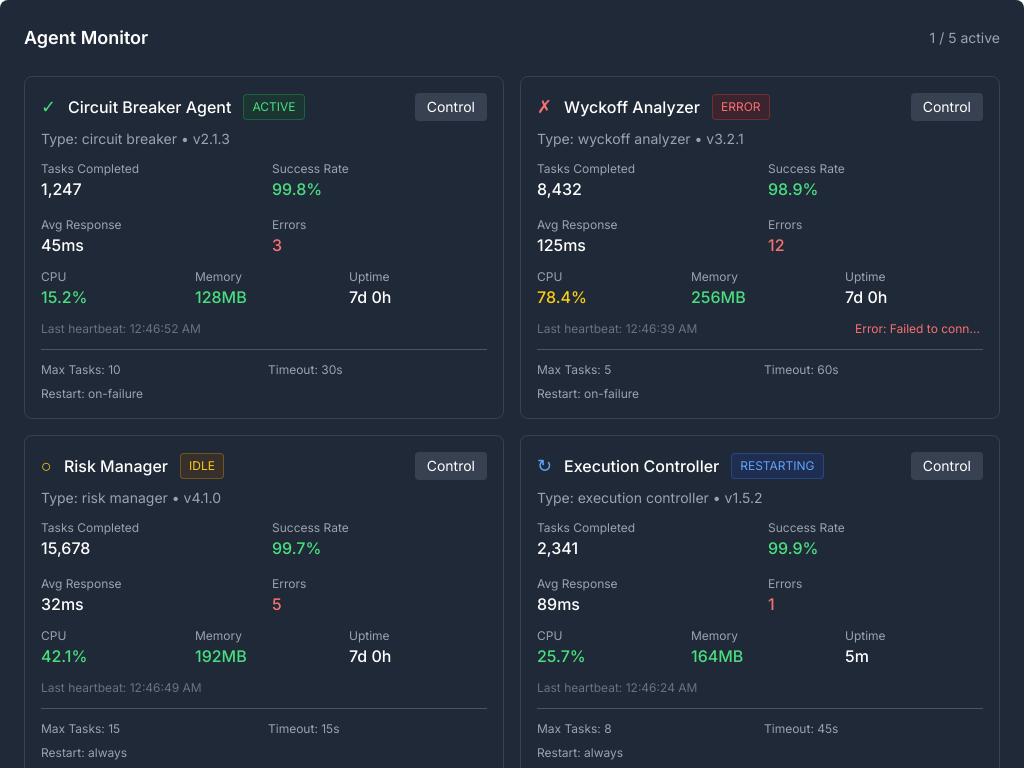
Test case: Story 9.2: AI Agent Status Monitoring Interface › AC5: Agent Control and Alert System › shows appropriate warnings for dangerous actions
Open control dialog
Click the button "Control" in the row of "Circuit Breaker Agent".
click(451, 107)  # box x1=415 y1=93 x2=487 y2=121
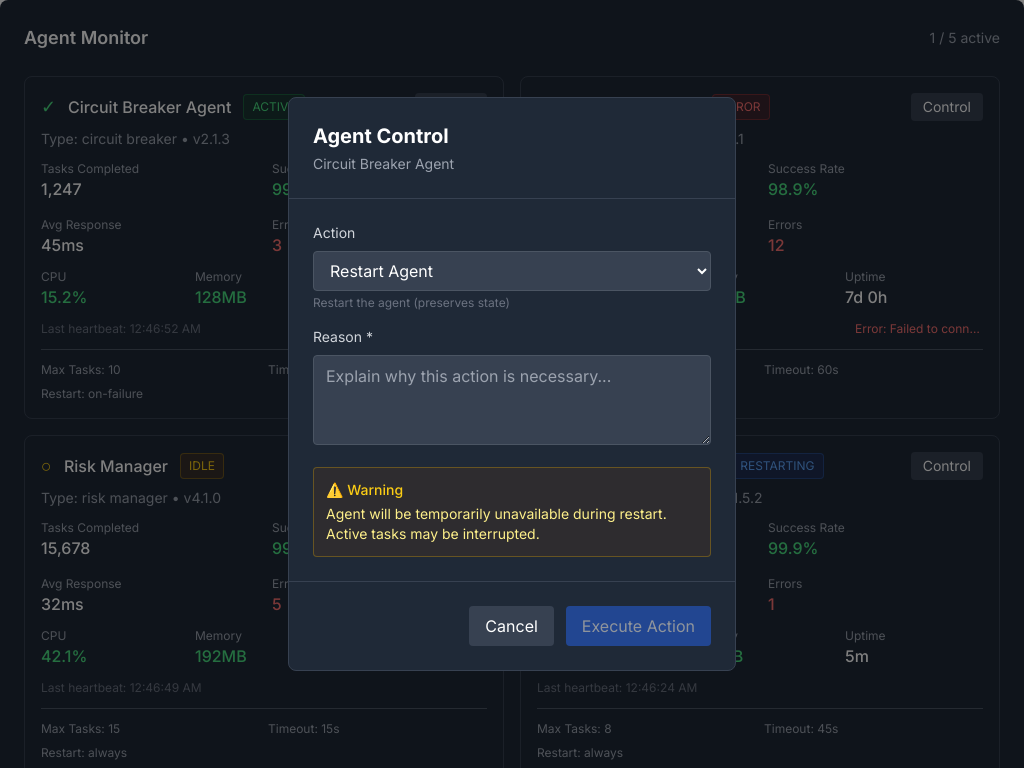
Select stop action
Select "Stop Agent" in the dropdown showing "Restart Agent" at (512, 271), box x1=313 y1=251 x2=711 y2=291
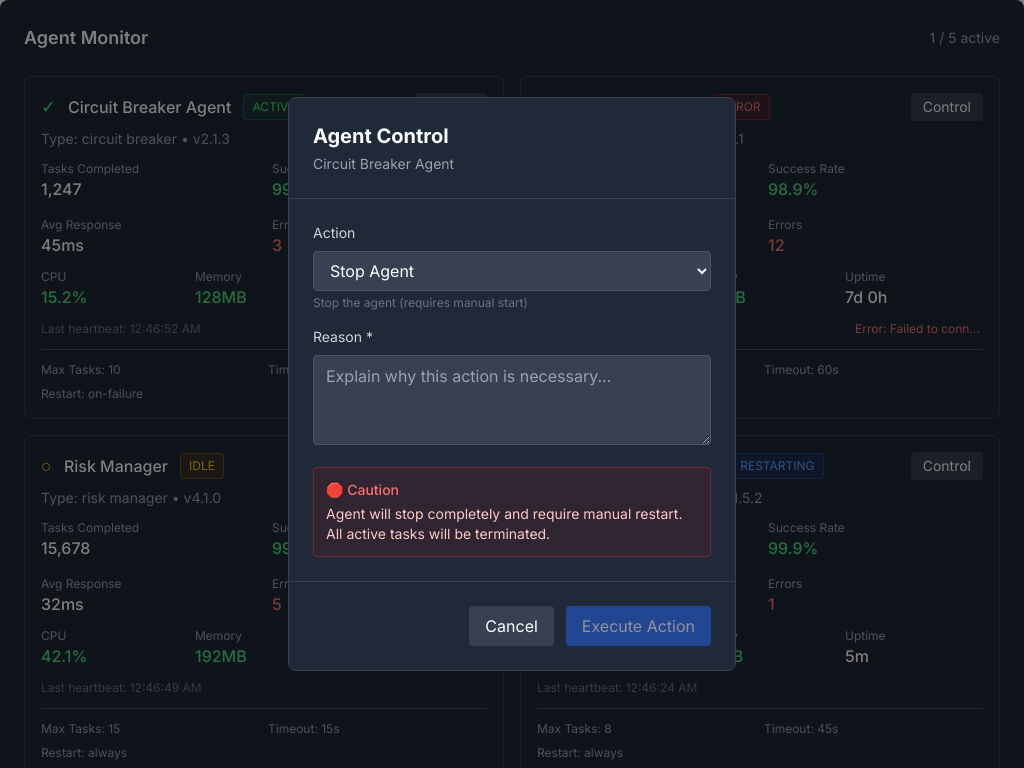
Now the text "🛑 Caution" is shown, box x1=326 y1=481 x2=399 y2=498
Now the text "Agent will stop completely" is shown, box x1=326 y1=505 x2=682 y2=542
